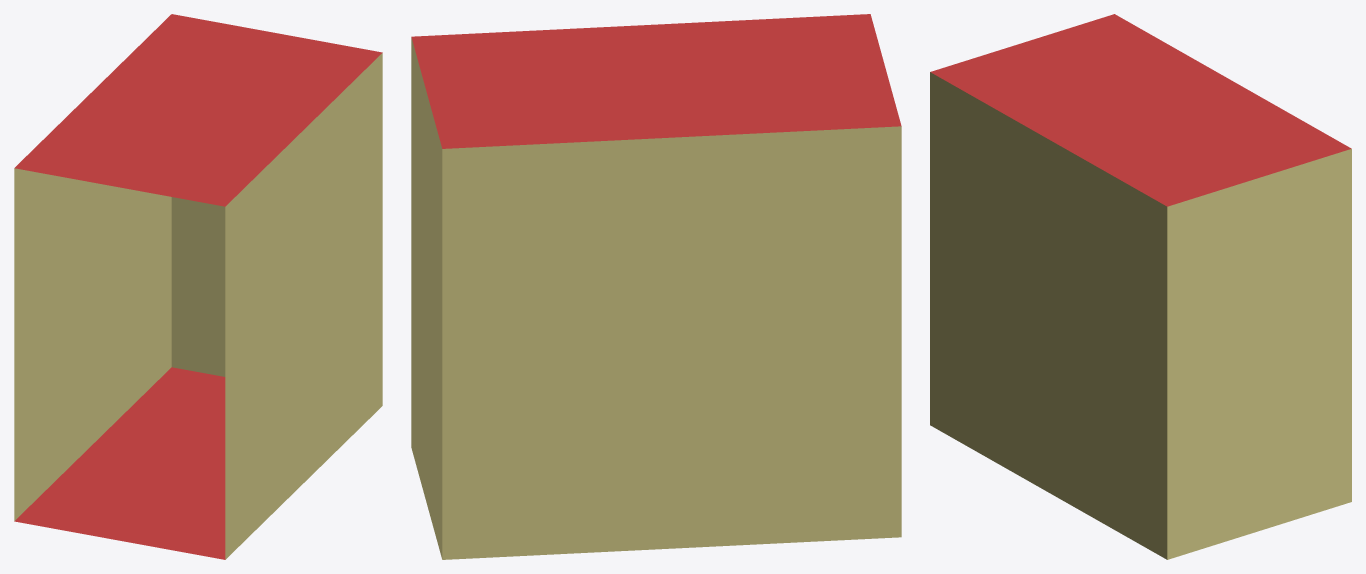
The picture shows the model from 3 angles, left to right: view 1: azimuth 30°, elevation 25°; view 2: azimuth 150°, elevation 25°; view 3: azimuth 270°, elevation 25°; orthographic projection. The views are drawn at different scales.
Bounding box in the file's own units: 6.71 × 6.2 × 5.73.
